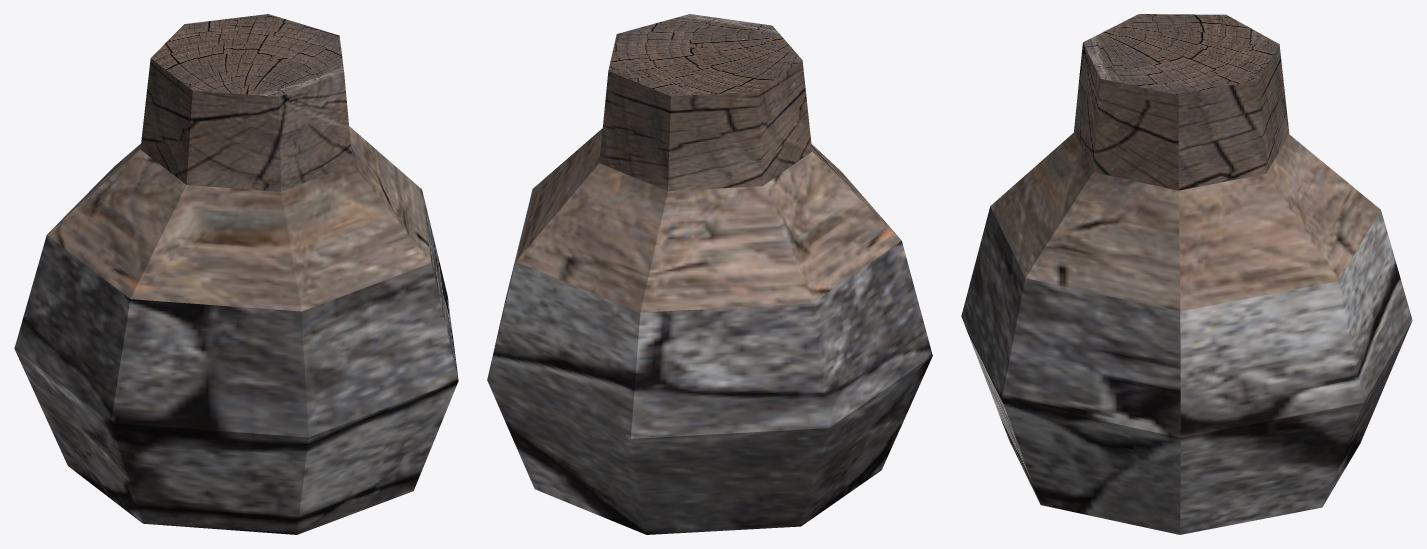
The model's file is Potion.fbx.
3 views of the same model, side by side, from view 1: azimuth 30°, elevation 25°; view 2: azimuth 150°, elevation 25°; view 3: azimuth 270°, elevation 25° (orthographic).
Parts seen in each view (by area): view 1: pCylinder10; view 2: pCylinder10; view 3: pCylinder10.
Boxes of the visible parts, x1,y1,x2,y2 form: pCylinder10: (14,14,458,534); pCylinder10: (487,14,932,534); pCylinder10: (961,14,1412,534).
Bounding box in the file's own units: 6.05 × 6.15 × 6.18.
Materials: 3 (3 with a texture image).
